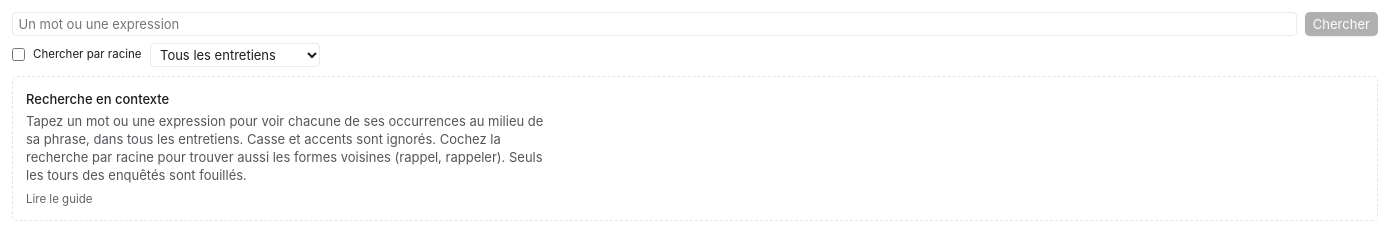
Scenario: KwicSearch › does not send a filter with an attribute but no value
Select "Secteur" in the dropdown named "Filtrer sur un attribut" at (234, 54), box [150,42,320,66]
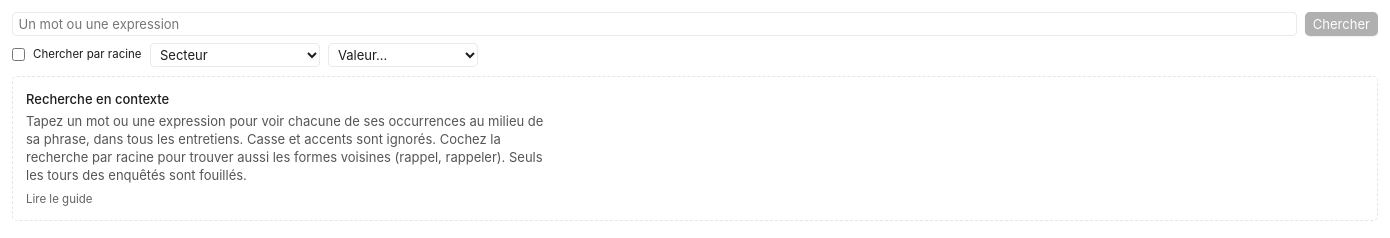
Type "x" into the field named "Mot ou expression à chercher" at (654, 24), box [12,12,1297,36]
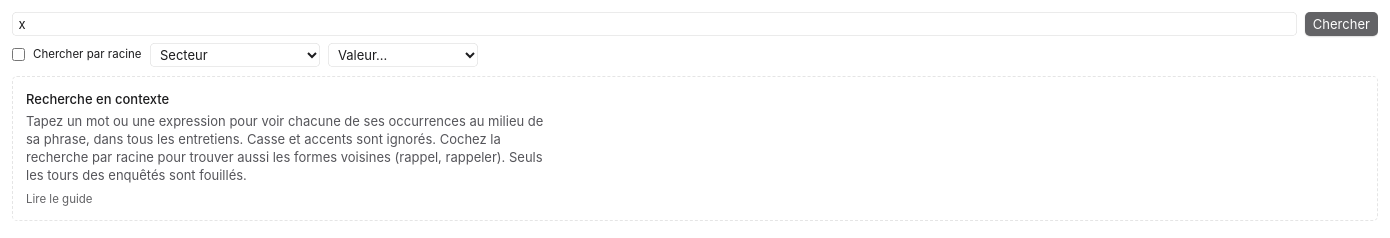
Click the button "Chercher" at (1341, 24), box [1305,12,1378,36]
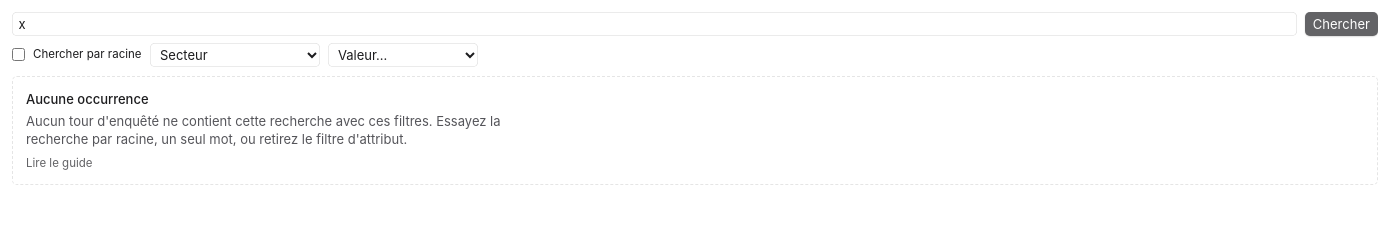
Check: the text "Aucune occurrence" is shown, box [26,91,148,107]
